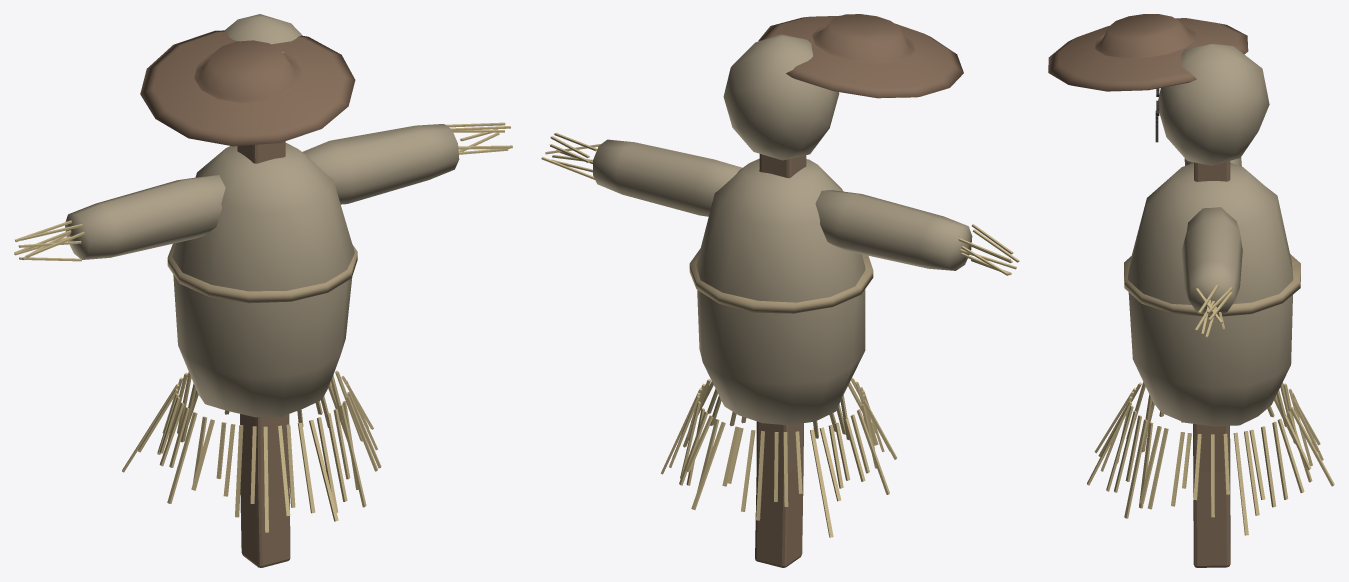
File: scarecrow.glb
The picture shows the model from 3 angles, left to right: view 1: azimuth 30°, elevation 25°; view 2: azimuth 150°, elevation 25°; view 3: azimuth 270°, elevation 25°; orthographic projection. The views are drawn at different scales.
Parts seen in each view (by area): view 1: scarecrow; view 2: scarecrow; view 3: scarecrow.
Part boxes in pixels (x1,y1,x2,y2): scarecrow: [14, 14, 512, 567]; scarecrow: [541, 14, 1019, 567]; scarecrow: [1048, 14, 1334, 567].
Bounding box in the file's own units: 1.76 × 1.88 × 0.9484.
